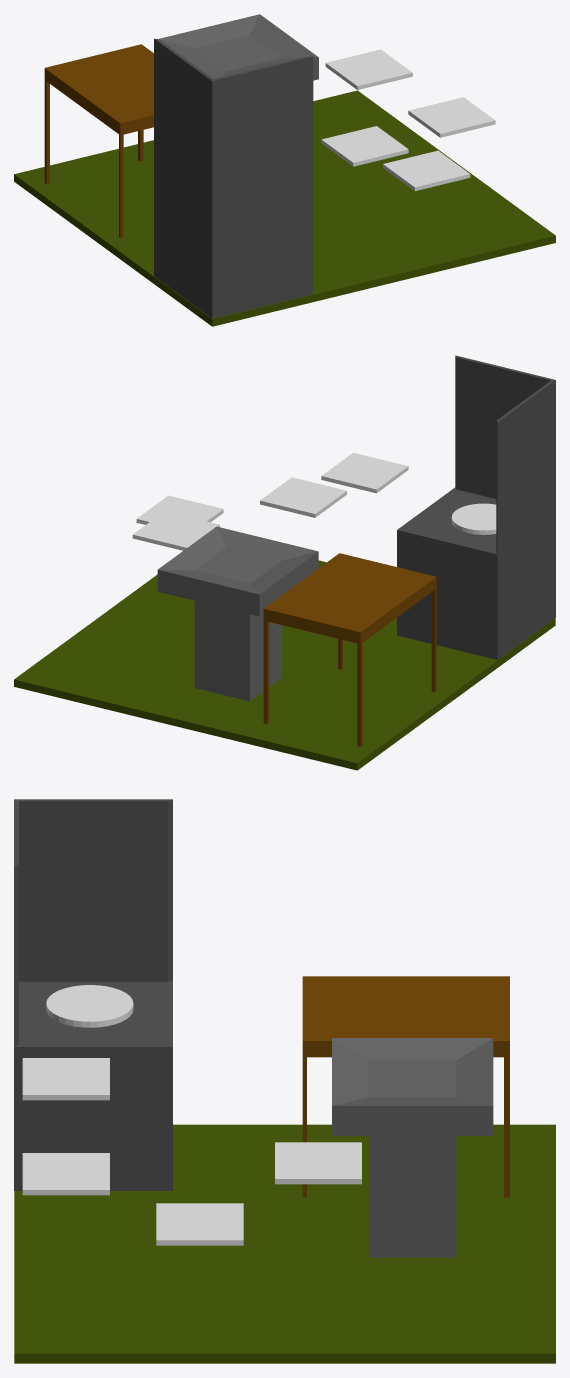
The model's file is testScene.fbx.
3 views of the same model, one above another, from view 1: azimuth 30°, elevation 25°; view 2: azimuth 150°, elevation 25°; view 3: azimuth 270°, elevation 25° (orthographic). The views are drawn at different scales.
Parts seen in each view (by area): view 1: finalTower, floor, startingBridge, tower01, platform04, platform01, platform03, platform02; view 2: floor, finalTower, tower01, startingBridge, platform04, platform03, platform01, platform02, endPlatform; view 3: floor, finalTower, tower01, startingBridge, platform02, platform03, platform04, platform01, endPlatform.
Boxes of the visible parts, x1,y1,x2,y2 form: finalTower: (154, 38, 313, 318); floor: (14, 90, 555, 326); startingBridge: (44, 44, 153, 237); tower01: (158, 14, 318, 80); platform04: (321, 126, 408, 166); platform01: (325, 49, 412, 89); platform03: (383, 150, 470, 191); platform02: (408, 97, 495, 137); floor: (14, 560, 555, 770); finalTower: (397, 355, 555, 659); tower01: (157, 526, 318, 701); startingBridge: (263, 553, 436, 746); platform04: (321, 452, 408, 493); platform03: (260, 477, 346, 517); platform01: (132, 511, 219, 550); platform02: (136, 495, 223, 524); endPlatform: (451, 503, 496, 534); floor: (14, 1124, 555, 1363); finalTower: (14, 799, 172, 1190); tower01: (332, 1038, 493, 1257); startingBridge: (302, 976, 509, 1197); platform02: (156, 1203, 243, 1245); platform03: (22, 1153, 109, 1195); platform04: (22, 1058, 109, 1100); platform01: (275, 1142, 361, 1184); endPlatform: (46, 985, 133, 1027).
Bounding box in the file's own units: 1243 × 848 × 1243.
